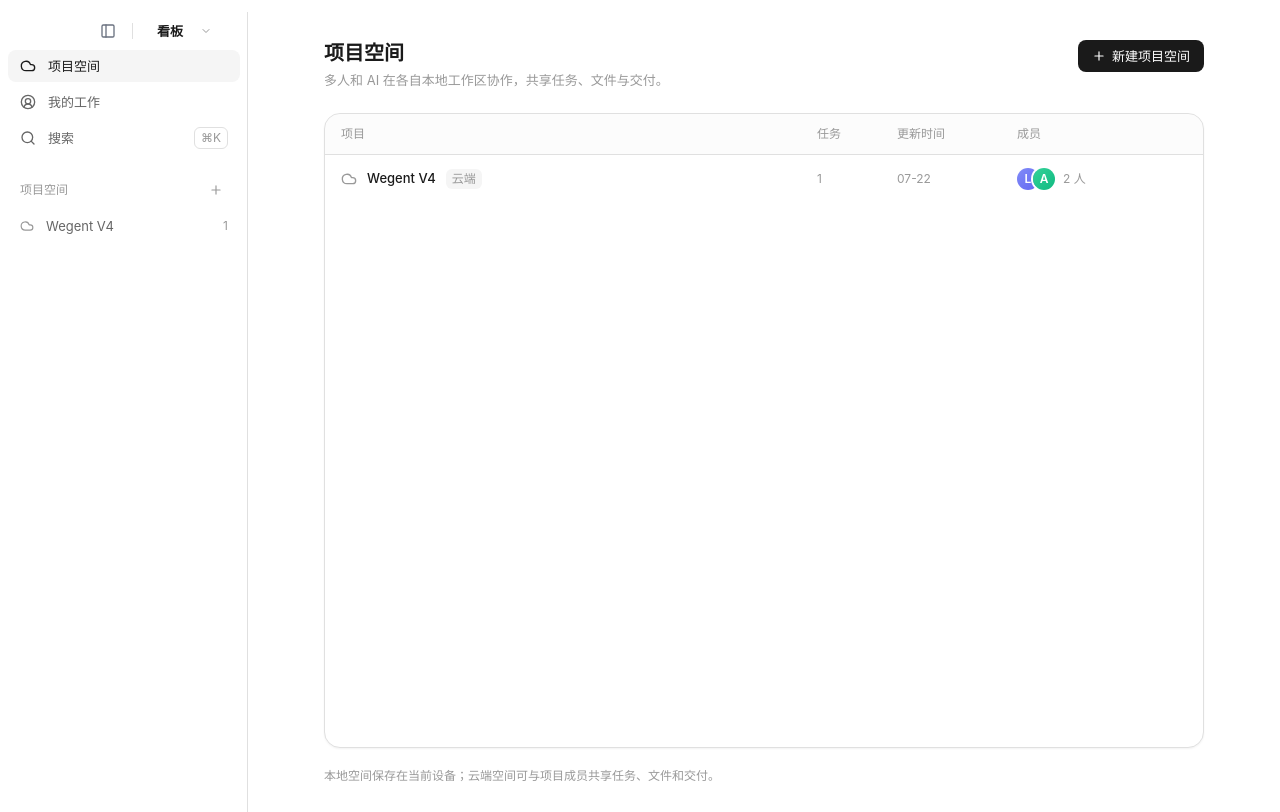
Test: CloudTodoWorkspace › collapses and restores the sidebar chrome
Click the button with test id "cloud-todo-collapse-sidebar": (108, 31) [92,15,124,47]
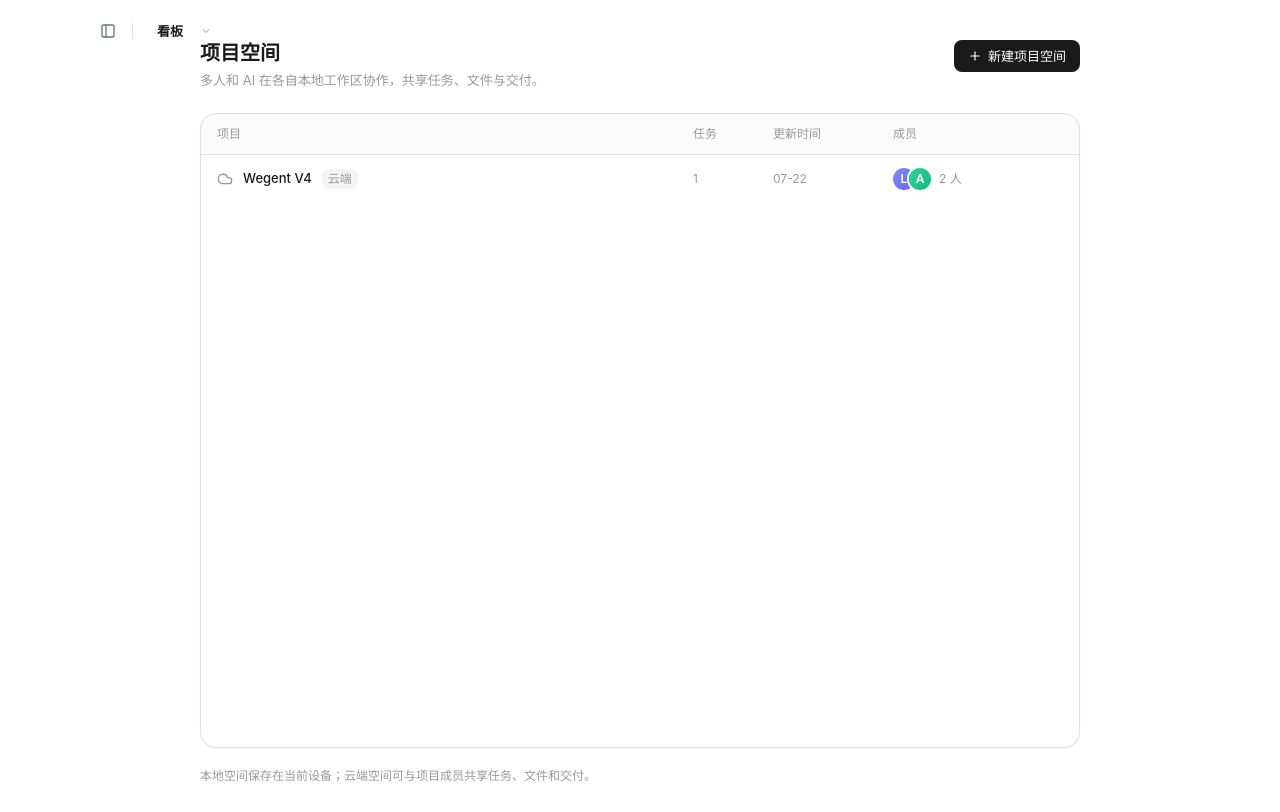
Click the button with test id "cloud-todo-expand-sidebar": (108, 31) [92,15,124,47]
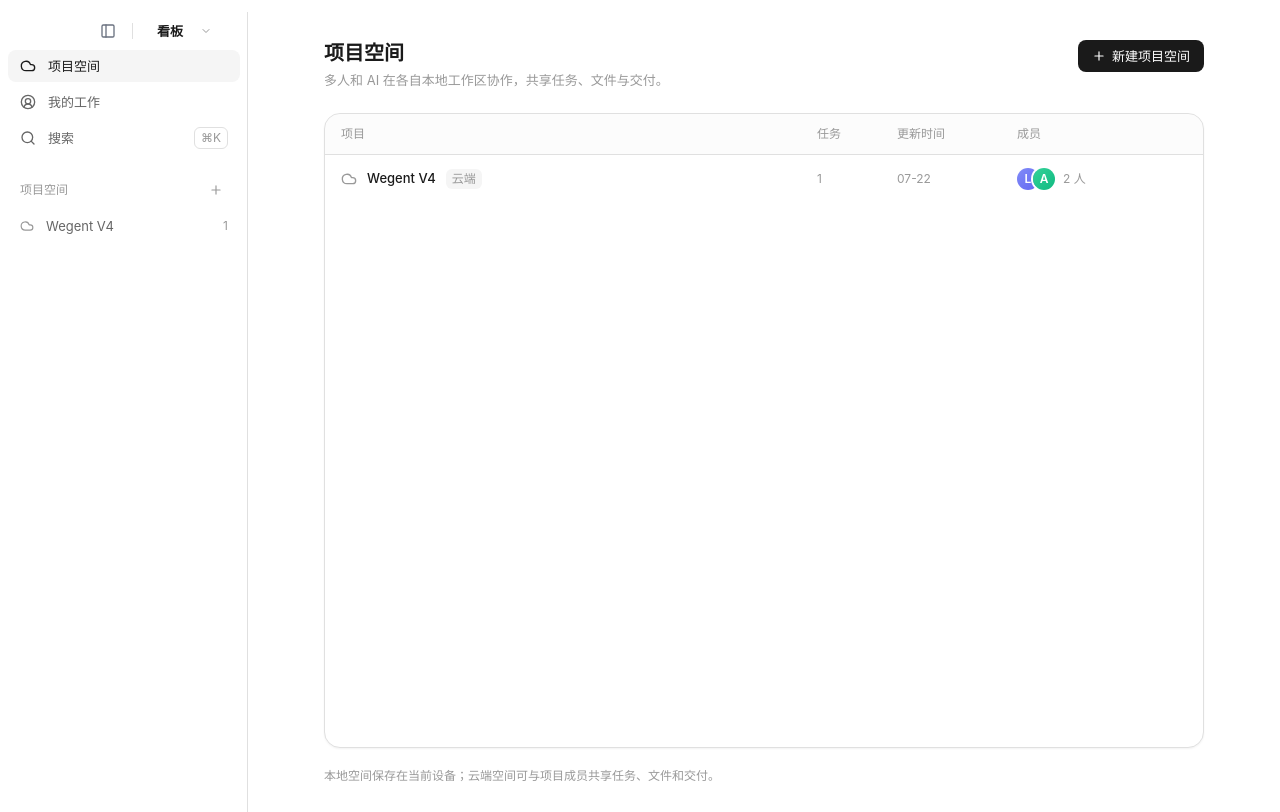
Now the element with test id "cloud-todo-collapsed-chrome-controls" is gone
